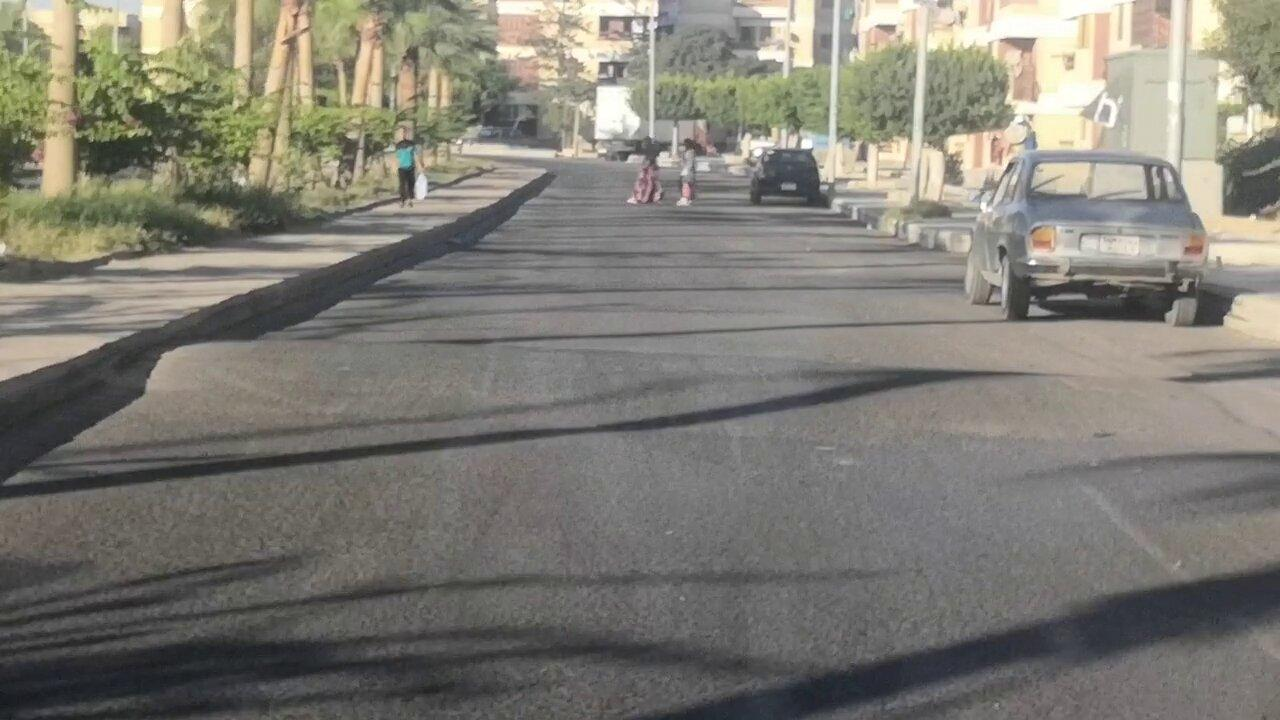Bump: (177, 332, 1278, 433)
